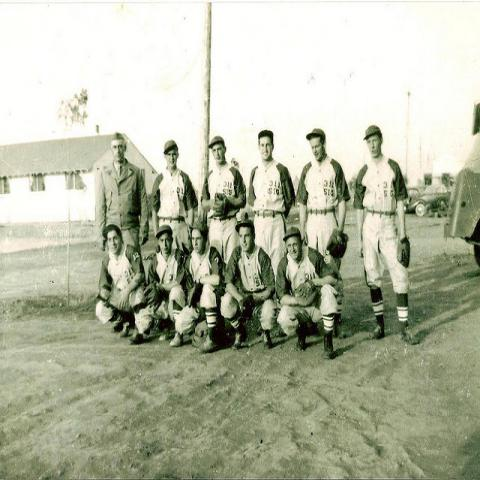car: (406, 184, 452, 216), (405, 186, 426, 199)
